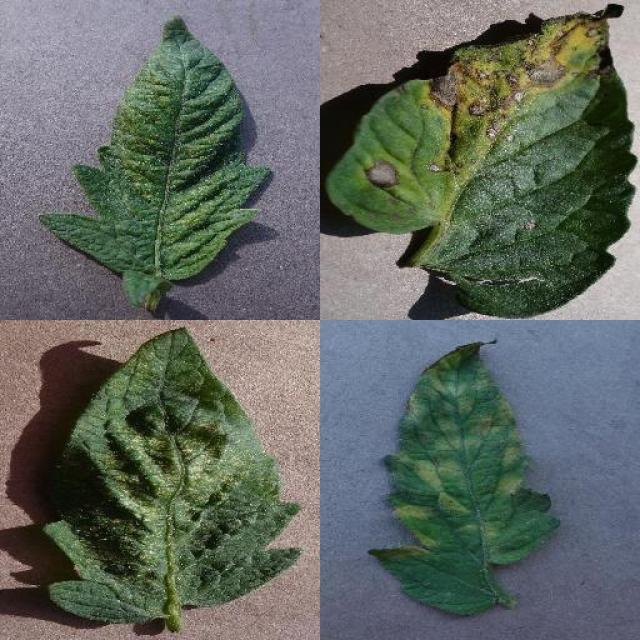Early Blight: (328, 2, 638, 320)
